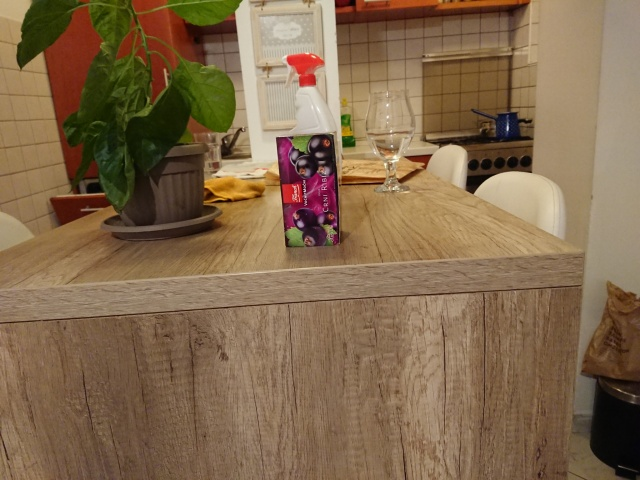Franck Black Currant Tea 60g: (273, 129, 345, 250)
